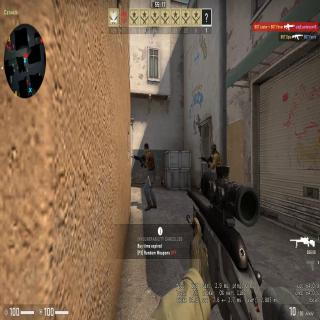T-Body: (140, 138, 158, 210), (208, 140, 224, 173)
T-Head: (210, 144, 217, 154), (144, 142, 148, 152)
